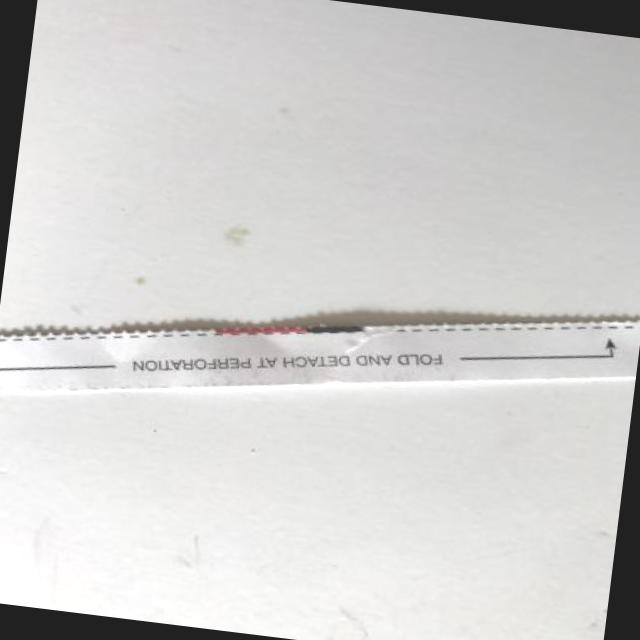paper: (0, 187, 640, 499)
